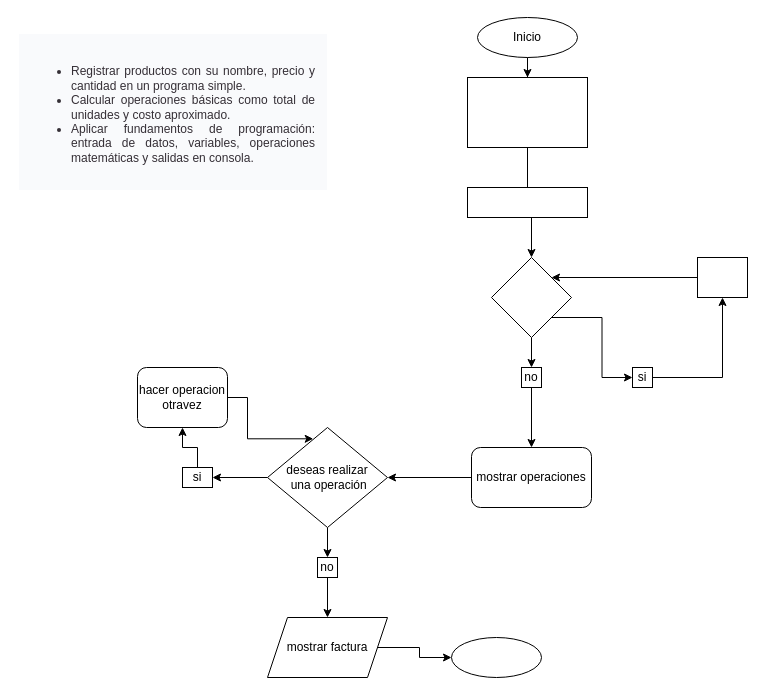
Image size: 765x695. Some labels were removed from this diagram. The shapes that lost their labels are listed below. From the top down, each one's centre as x and y in pixels, then its label:
At pixel 527 112: "crear variables productos precio cantidad".
At pixel 527 202: "verificar variables".
At pixel 531 297: "guardar productos".
At pixel 722 277: "volver a preguntar".
At pixel 496 657: "fin".
